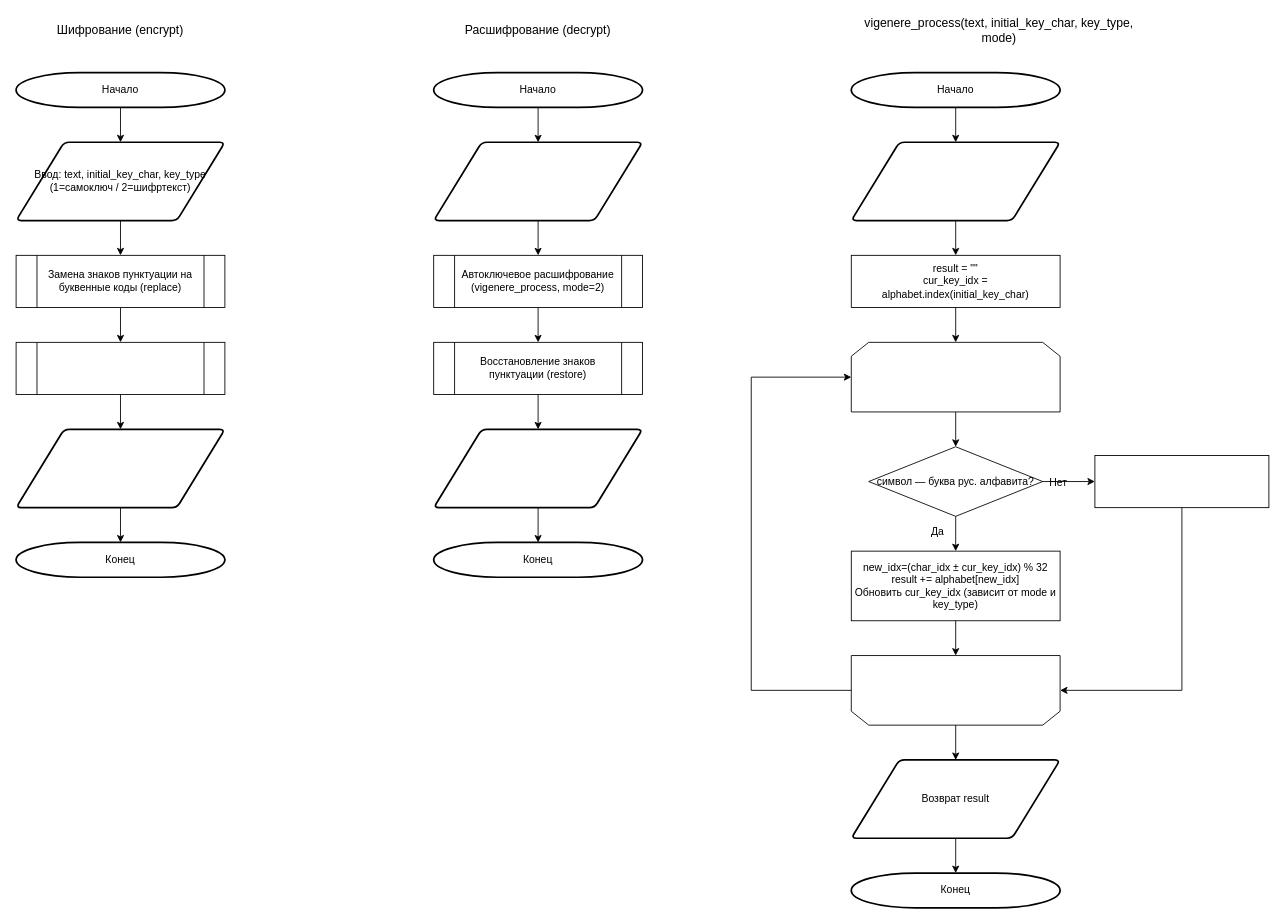
The diagram is 1284 pixels wide and 923 high, and some of its shapes have lost their labels. The shapes that lost their labels are listed below. From the top down, each one's box as (x1, y1, x2, y2) in pixels, then its label:
(432, 141, 643, 221): Ввод: text (шифртекст), initial_key_char, key_type
(850, 141, 1061, 221): Ввод: text, initial_key_char, key_type, mode
(15, 341, 225, 395): Автоключевое шифрование (vigenere_process, mode=1)
(850, 341, 1060, 412): цикл: для каждого символа text[i]
(15, 428, 225, 508): Возврат зашифрованного текста
(432, 428, 643, 508): Возврат расшифрованного текста
(1094, 455, 1269, 508): result += символ без изменений
